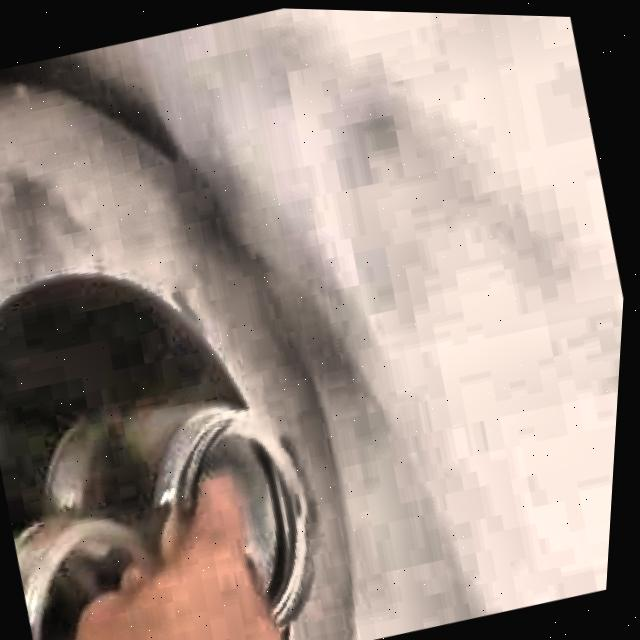glass: (18, 400, 315, 640)
